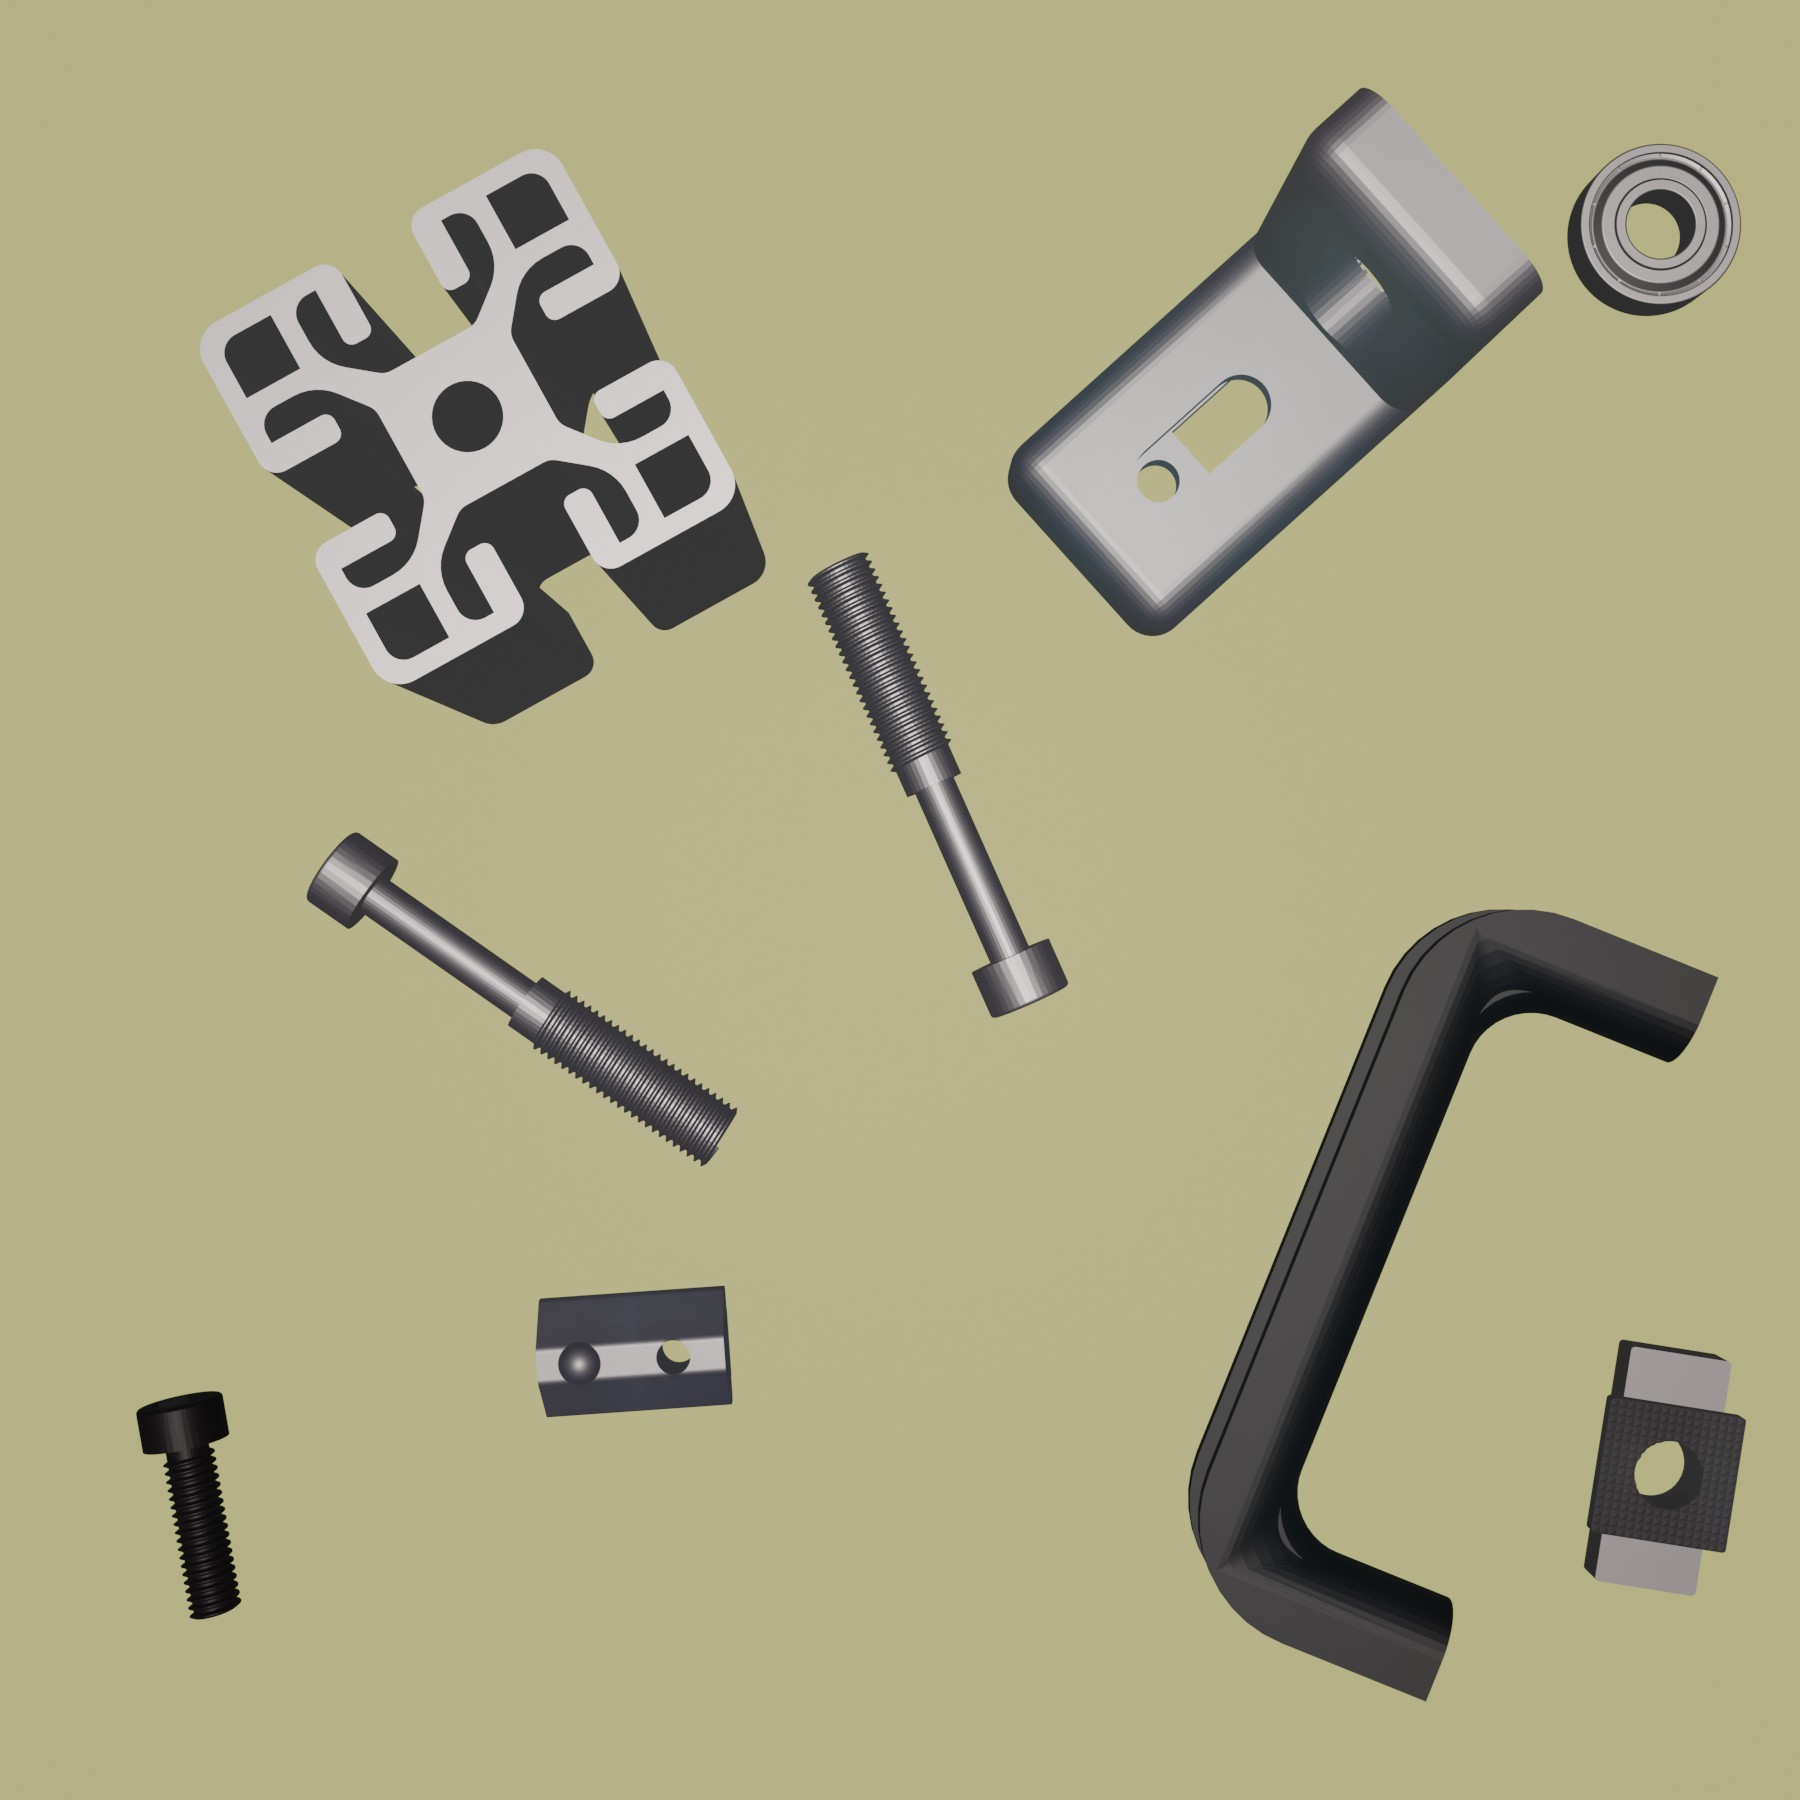Aluminium Extension: (198, 145, 766, 729)
Ball Bearing: (1564, 142, 1744, 320)
Multiwinkel: (1005, 86, 1546, 638)
Pull Handle: (1185, 907, 1719, 1704)
Shoulder Socket Head Cap Screw: (303, 831, 740, 1165), (804, 551, 1070, 1022)
Socket Head Cap Screw: (135, 1388, 244, 1620)
T Nut Square: (1581, 1334, 1751, 1601)
T Spring Nut: (532, 1282, 734, 1419)
